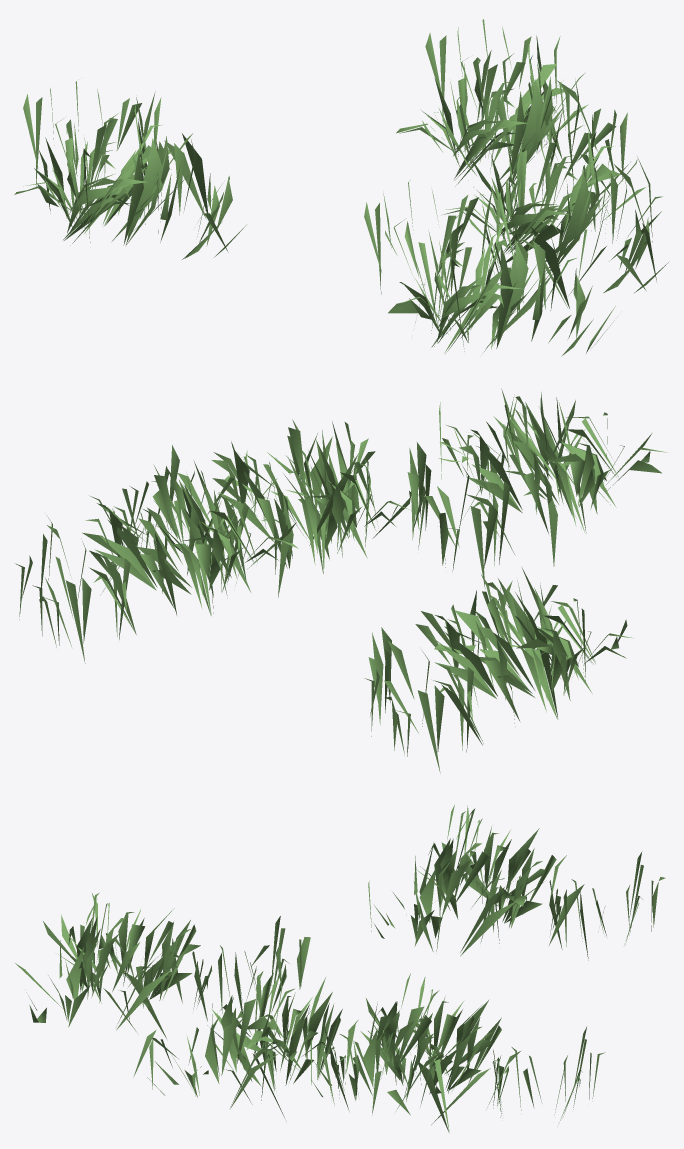
File: grass_3.glb
3 renders of one model, top to bottom at view 1: azimuth 30°, elevation 25°; view 2: azimuth 150°, elevation 25°; view 3: azimuth 270°, elevation 25°, orthographic. The views are drawn at different scales.
Visible parts, largest first — view 1: grass_3; view 2: grass_3; view 3: grass_3.
Part boxes in pixels (left/top/right/bottom): grass_3: left=14, top=19, right=668, bottom=356; grass_3: left=15, top=388, right=667, bottom=772; grass_3: left=15, top=804, right=665, bottom=1132.
Size of the model in its own units: 0.8595 by 0.2019 by 0.9502.
